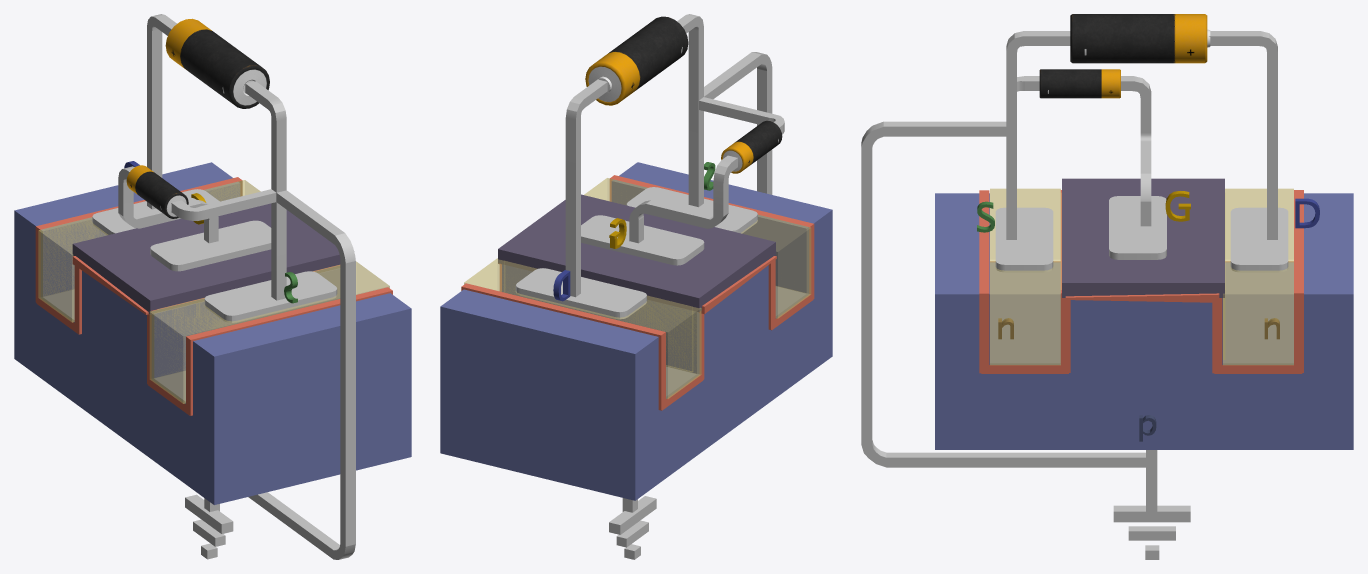
File: mosfet.fbx
3 renders of one model, left to right at view 1: azimuth 30°, elevation 25°; view 2: azimuth 150°, elevation 25°; view 3: azimuth 270°, elevation 25°, orthographic. The views are drawn at different scales.
Visible parts, largest first — view 1: polySurface8, pCube13, pCube19, channel_under, pCube18, battery, pCube4, pCube21, pCube7, pCube25, red5, battery1 (+6 smaller); view 2: polySurface8, pCube19, pCube13, channel_under, pCube4, battery, pCube18, pCube25, pCube20, pCube21, red, pCube7 (+6 smaller); view 3: polySurface8, pCube13, pCube19, channel_under, pCube18, pCube4, battery, pCube7, pCube20, pCube21, battery1, pCube25 (+9 smaller).
Part boxes in pixels (left/top/right/bottom): polySurface8: left=14, top=162, right=411, bottom=504; pCube13: left=147, top=14, right=355, bottom=559; pCube19: left=72, top=203, right=340, bottom=314; channel_under: left=82, top=268, right=339, bottom=378; pCube18: left=149, top=261, right=389, bottom=403; battery: left=165, top=18, right=269, bottom=108; pCube4: left=38, top=180, right=260, bottom=322; pCube21: left=150, top=220, right=271, bottom=271; pCube7: left=204, top=271, right=337, bottom=322; pCube25: left=118, top=166, right=276, bottom=243; red5: left=186, top=287, right=392, bottom=415; battery1: left=126, top=165, right=188, bottom=218; polySurface8: left=440, top=162, right=832, bottom=500; pCube19: left=498, top=194, right=775, bottom=311; pCube13: left=565, top=14, right=772, bottom=512; channel_under: left=502, top=264, right=768, bottom=373; pCube4: left=464, top=258, right=701, bottom=398; battery: left=585, top=16, right=688, bottom=105; pCube18: left=584, top=178, right=811, bottom=318; pCube25: left=629, top=97, right=784, bottom=243; pCube20: left=515, top=268, right=646, bottom=319; pCube21: left=581, top=215, right=704, bottom=265; red: left=461, top=283, right=665, bottom=410; pCube7: left=626, top=187, right=757, bottom=233; polySurface8: left=935, top=193, right=1353, bottom=449; pCube13: left=861, top=31, right=1277, bottom=517; pCube19: left=1062, top=178, right=1224, bottom=297; channel_under: left=1070, top=298, right=1222, bottom=363; pCube18: left=990, top=188, right=1060, bottom=365; pCube4: left=1223, top=188, right=1293, bottom=365; battery: left=1070, top=14, right=1210, bottom=63; pCube7: left=995, top=207, right=1053, bottom=272; pCube20: left=1230, top=207, right=1288, bottom=272; pCube21: left=1109, top=196, right=1166, bottom=259; battery1: left=1039, top=69, right=1120, bottom=98; pCube25: left=1017, top=76, right=1151, bottom=226.
Bounding box in the file's own units: 71.32 × 166 × 136.
11 materials, 1 textured.
